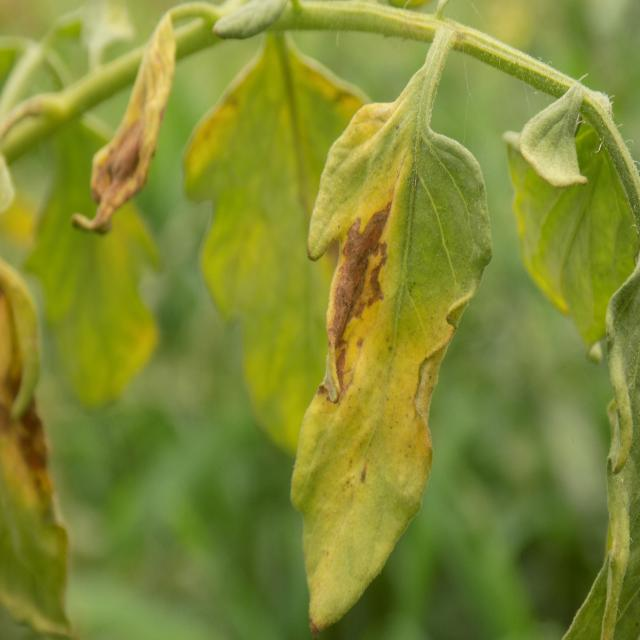tomato_early blight: (287, 80, 487, 626)
